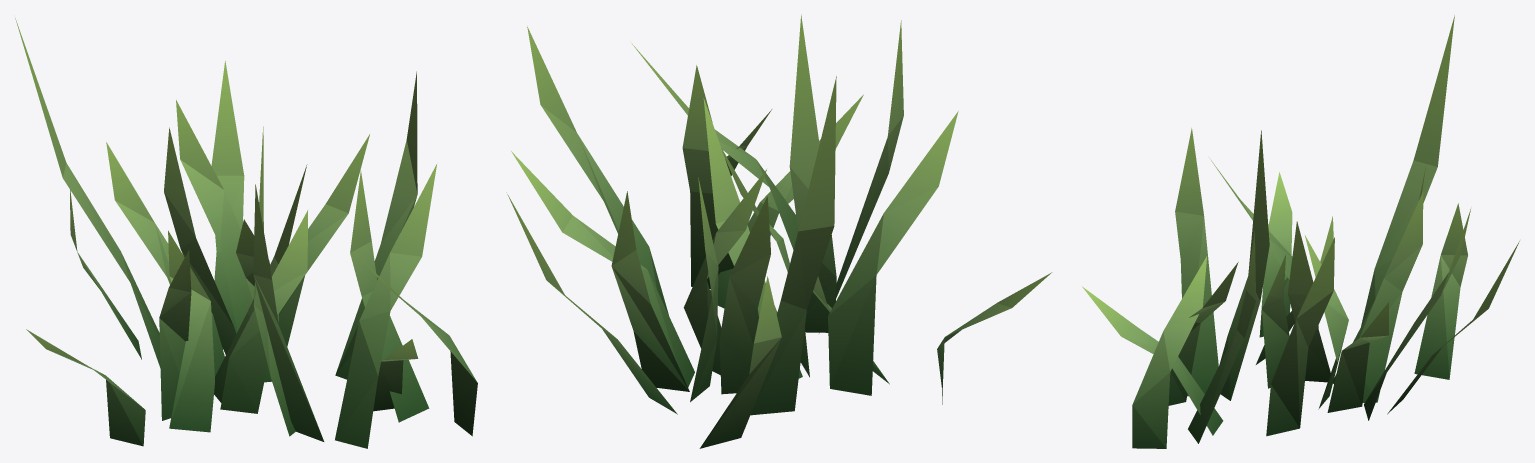
Rendered from SM_Algae_2.fbx.
3 renders of one model, left to right at view 1: azimuth 30°, elevation 25°; view 2: azimuth 150°, elevation 25°; view 3: azimuth 270°, elevation 25°, orthographic. The views are drawn at different scales.
Parts seen in each view (by area): view 1: Algae_2; view 2: Algae_2; view 3: Algae_2.
Boxes of the visible parts, x1,y1,x2,y2 form: Algae_2: (15,18,477,448); Algae_2: (506,14,1052,448); Algae_2: (1082,15,1519,448).
Bounding box in the file's own units: 193 × 155 × 196.
